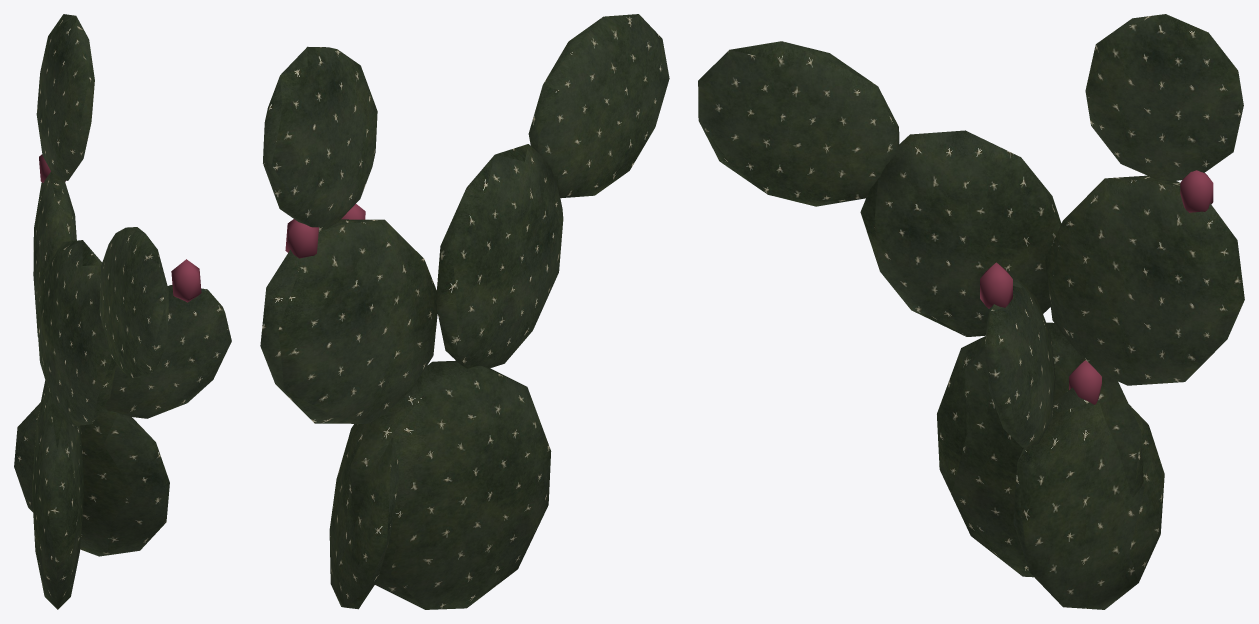
The model's file is cactus_prickly_pear.glb.
The picture shows the model from 3 angles, left to right: view 1: azimuth 30°, elevation 25°; view 2: azimuth 150°, elevation 25°; view 3: azimuth 270°, elevation 25°; orthographic projection. The views are drawn at different scales.
Visible parts, largest first — view 1: cactus_prickly_pear_cactus_pear_skin, cactus_prickly_pear_cactus_fruit; view 2: cactus_prickly_pear_cactus_pear_skin, cactus_prickly_pear_cactus_fruit; view 3: cactus_prickly_pear_cactus_pear_skin, cactus_prickly_pear_cactus_fruit.
Boxes of the visible parts, x1,y1,x2,y2 form: cactus_prickly_pear_cactus_pear_skin: [14, 14, 231, 609]; cactus_prickly_pear_cactus_fruit: [39, 154, 201, 302]; cactus_prickly_pear_cactus_pear_skin: [260, 14, 669, 609]; cactus_prickly_pear_cactus_fruit: [285, 204, 365, 258]; cactus_prickly_pear_cactus_pear_skin: [698, 14, 1244, 609]; cactus_prickly_pear_cactus_fruit: [980, 170, 1213, 404].
Size of the model in its own units: 0.5614 by 1.38 by 1.12.
Materials: 2 (1 with a texture image).
